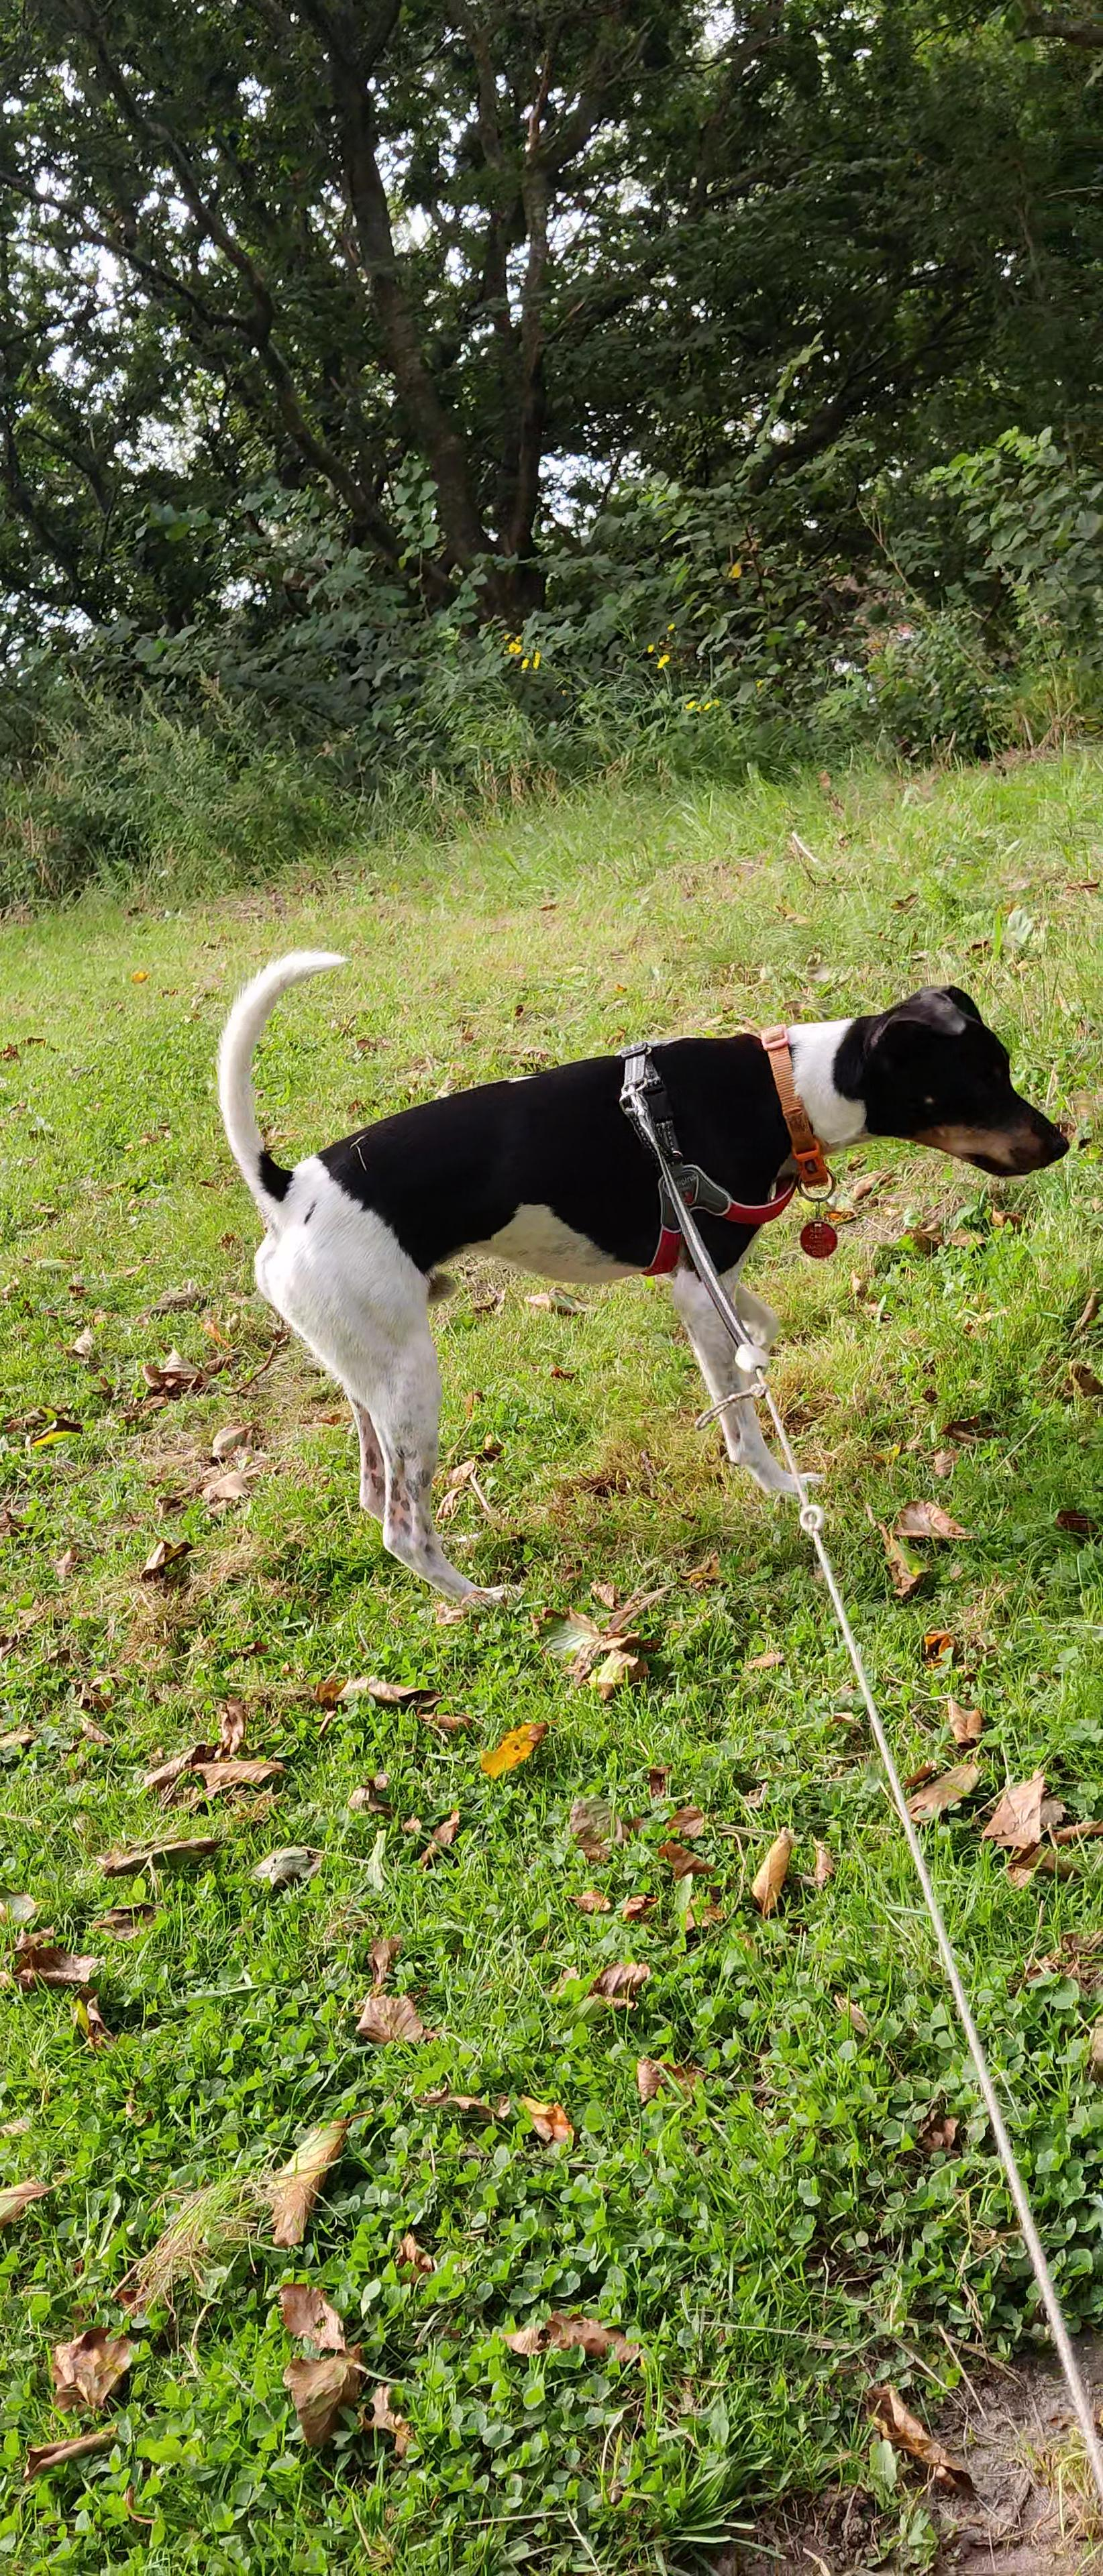Dog: (204, 936, 1073, 1613)
